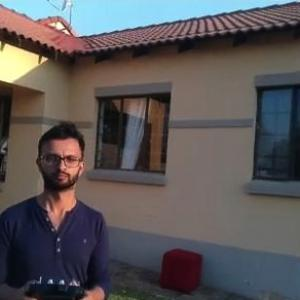follow: (0, 108, 121, 299)
null: (244, 273, 299, 299)
